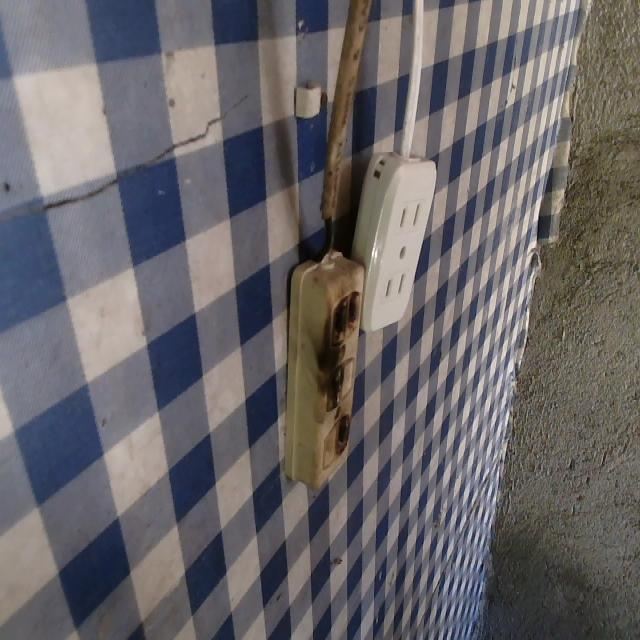-: (323, 290, 364, 346), (318, 362, 346, 409), (333, 407, 353, 453)
